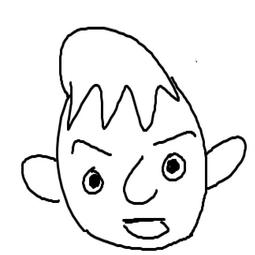ear: (202, 129, 249, 198), (17, 149, 64, 205)
eye: (161, 152, 189, 184), (79, 164, 106, 197)
frowning_eyebrow: (66, 136, 115, 160), (151, 126, 198, 147)
nose: (116, 152, 161, 212)
open_mouth: (117, 215, 176, 245)
